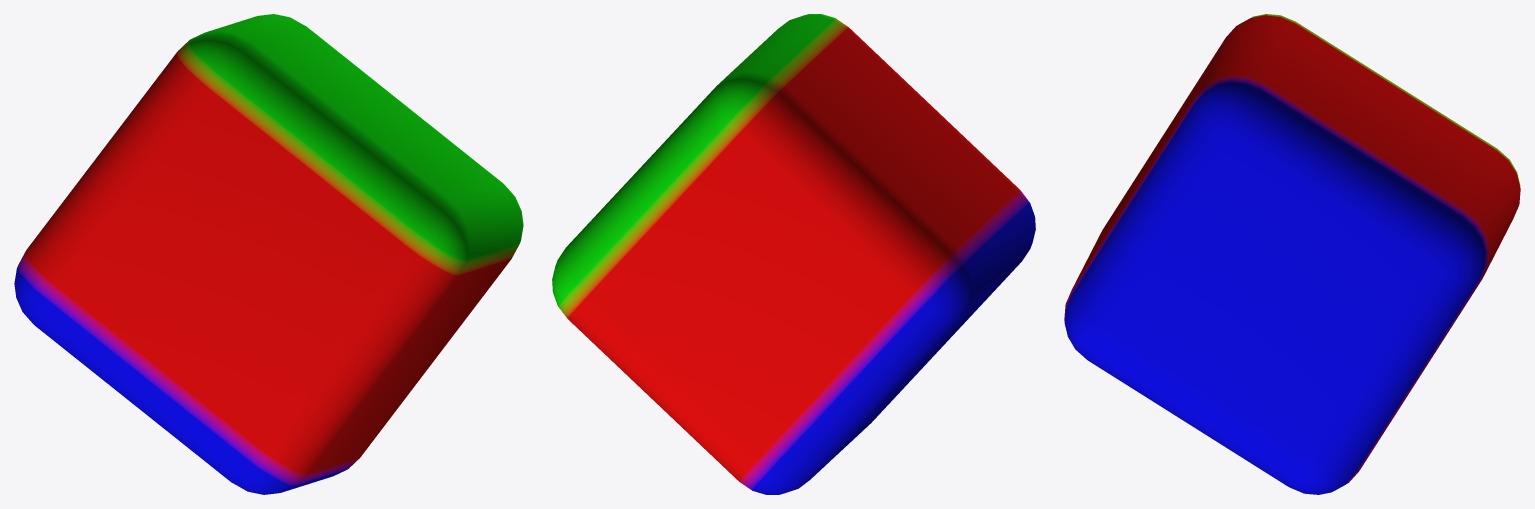
The picture shows the model from 3 angles, left to right: view 1: azimuth 30°, elevation 25°; view 2: azimuth 150°, elevation 25°; view 3: azimuth 270°, elevation 25°; orthographic projection. The views are drawn at different scales.
Visible parts, largest first — view 1: cube; view 2: cube; view 3: cube.
Boxes of the visible parts, bbox=[...] form: cube: bbox=[14, 14, 523, 494]; cube: bbox=[552, 14, 1035, 494]; cube: bbox=[1064, 14, 1520, 494].
Bounding box in the file's own units: 0.14 × 0.1475 × 0.1317.
